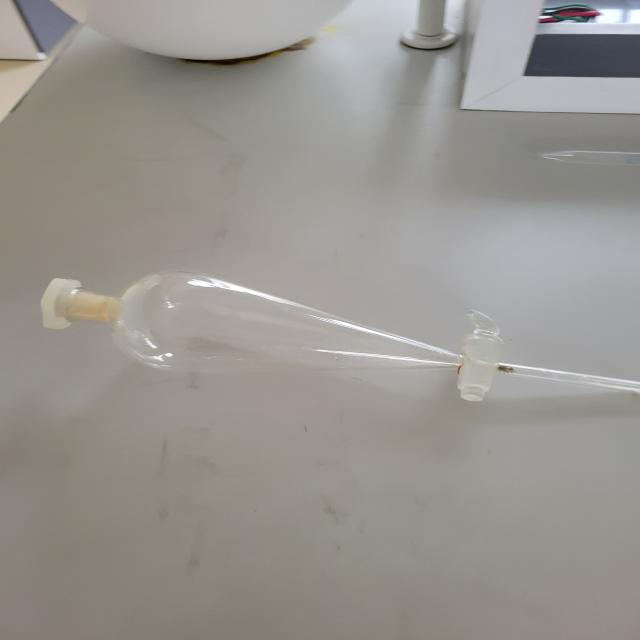Separating_Funnel: (17, 197, 640, 459)
